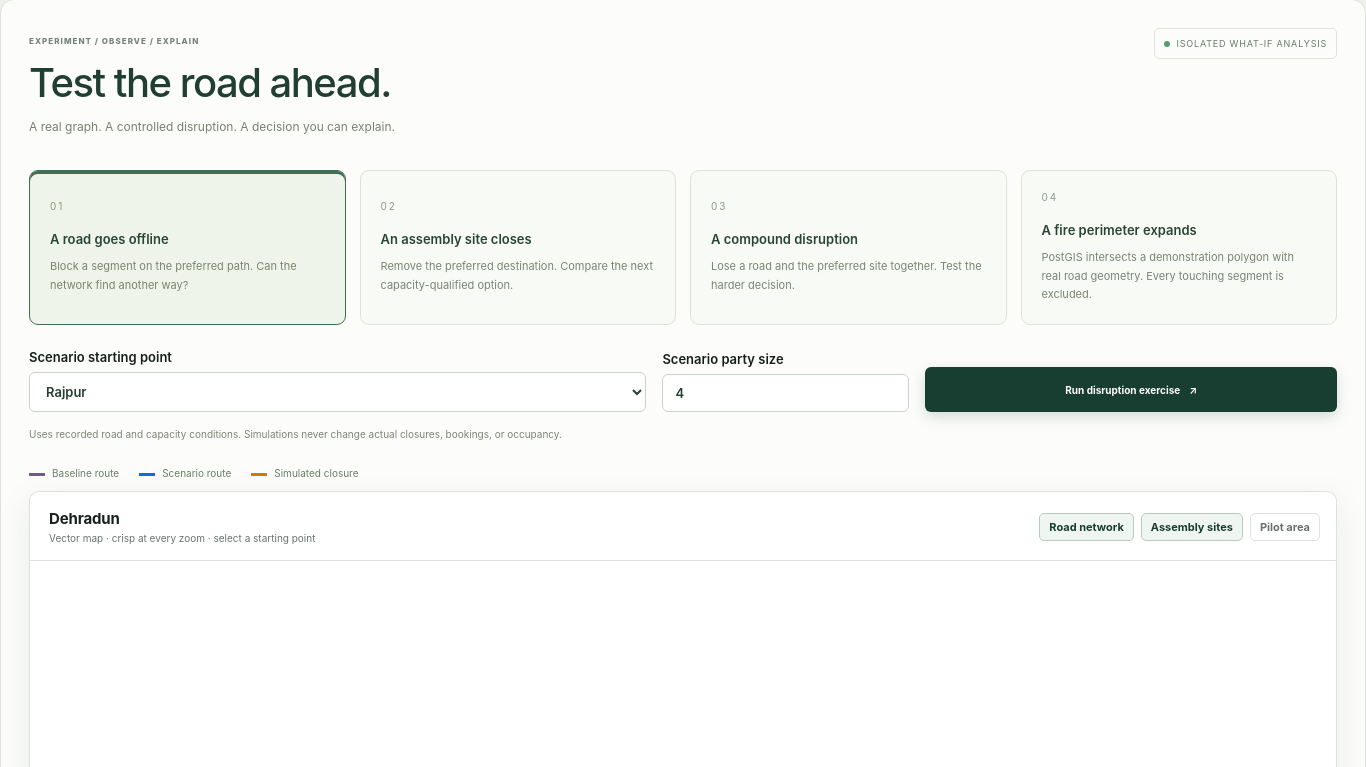
Test case: compound exercise removes the site and road and shows no-route explicitly
What coordinates should you click on to do the following:
click the button "A compound disruption"
I would click on:
 (848, 248)
Its box is [690,170,1006,325].
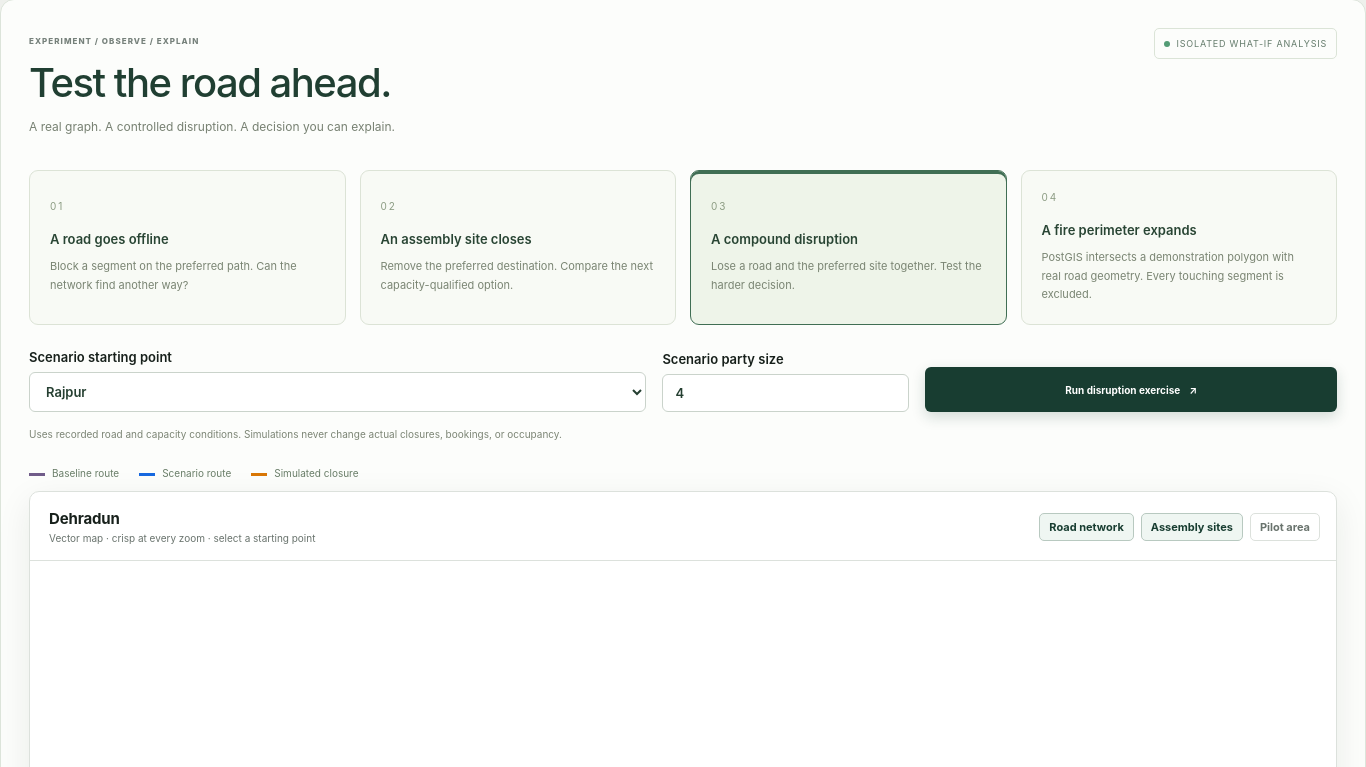
What coordinates should you click on to do the following:
click the button "Run disruption exercise ↗"
I would click on:
 (1131, 390)
Its box is [925,367,1337,412].
(page scrolled)
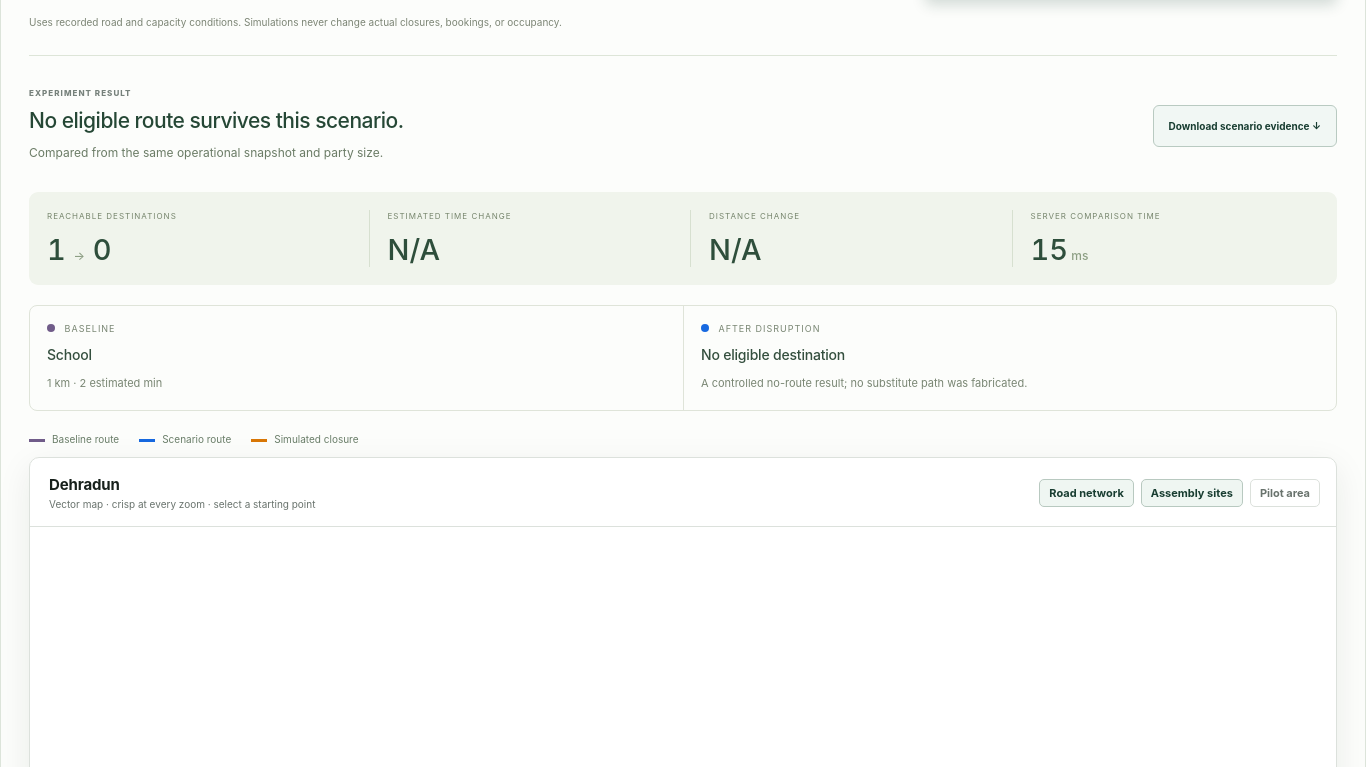
Check: the heading "No eligible route survives this scenario." is shown, box [29,108,404,133]
Check: the text "no substitute path was fabricated" is shown, box [701,376,1027,390]
